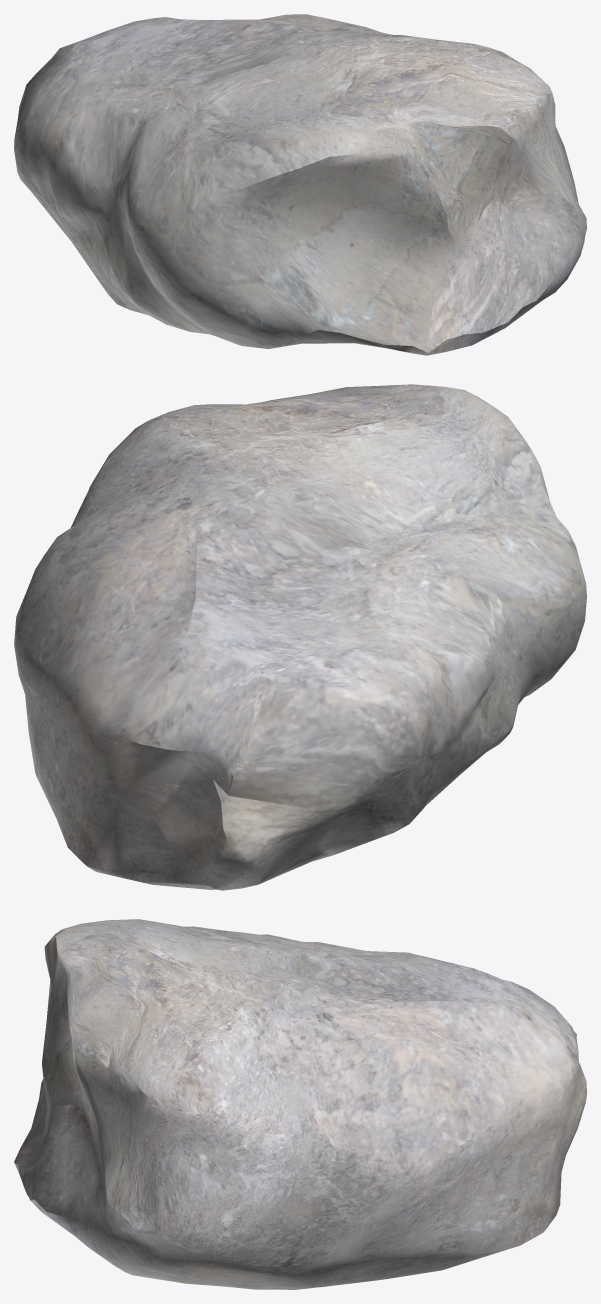
File: rock_00C_2k.fbx
3 renders of one model, top to bottom at view 1: azimuth 30°, elevation 25°; view 2: azimuth 150°, elevation 25°; view 3: azimuth 270°, elevation 25°, orthographic. The views are drawn at different scales.
Visible parts, largest first — view 1: rock_00C_2k; view 2: rock_00C_2k; view 3: rock_00C_2k.
Part boxes in pixels (<box>): rock_00C_2k: <box>14,14,586,355</box>; rock_00C_2k: <box>14,384,586,890</box>; rock_00C_2k: <box>14,919,586,1289</box>.
Size of the model in its own units: 222 by 144 by 262.
